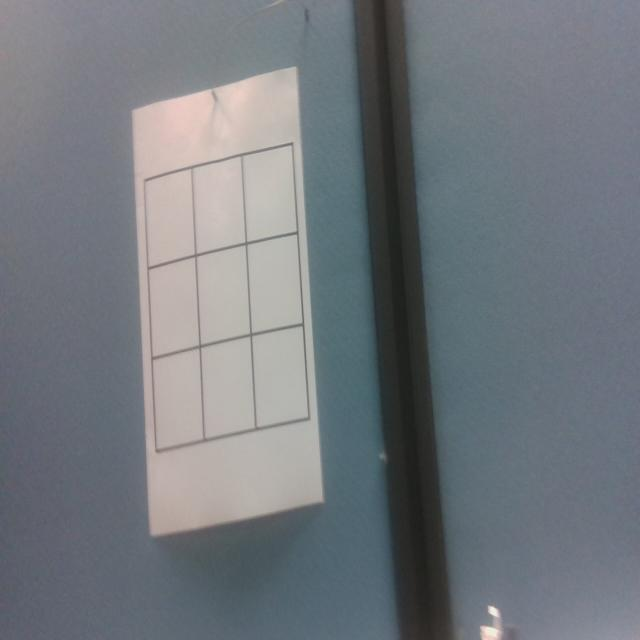null: (252, 326, 309, 431), (200, 335, 255, 441), (248, 233, 304, 336), (196, 243, 250, 346), (243, 143, 298, 244), (151, 347, 203, 452), (194, 154, 247, 253), (149, 256, 199, 358), (146, 168, 195, 267)
table: (134, 138, 313, 459)
